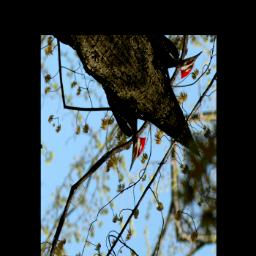Woodpecker: (83, 71, 156, 176)
